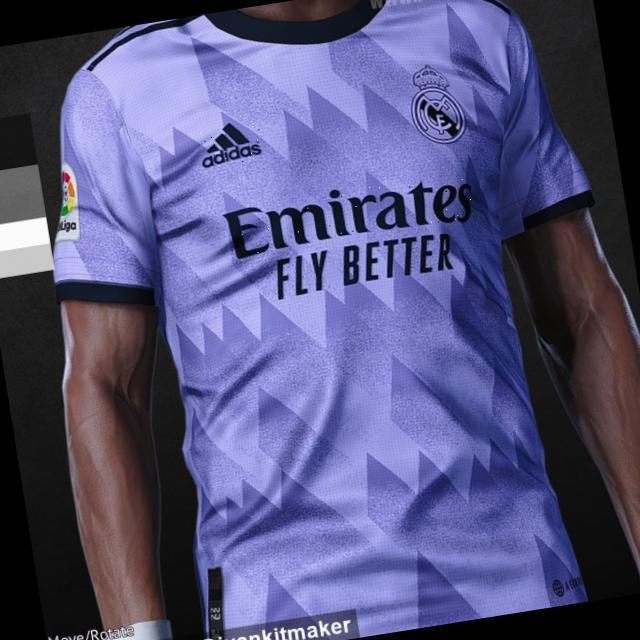Adidas: (195, 118, 264, 169)
Emirates: (222, 165, 478, 263)
